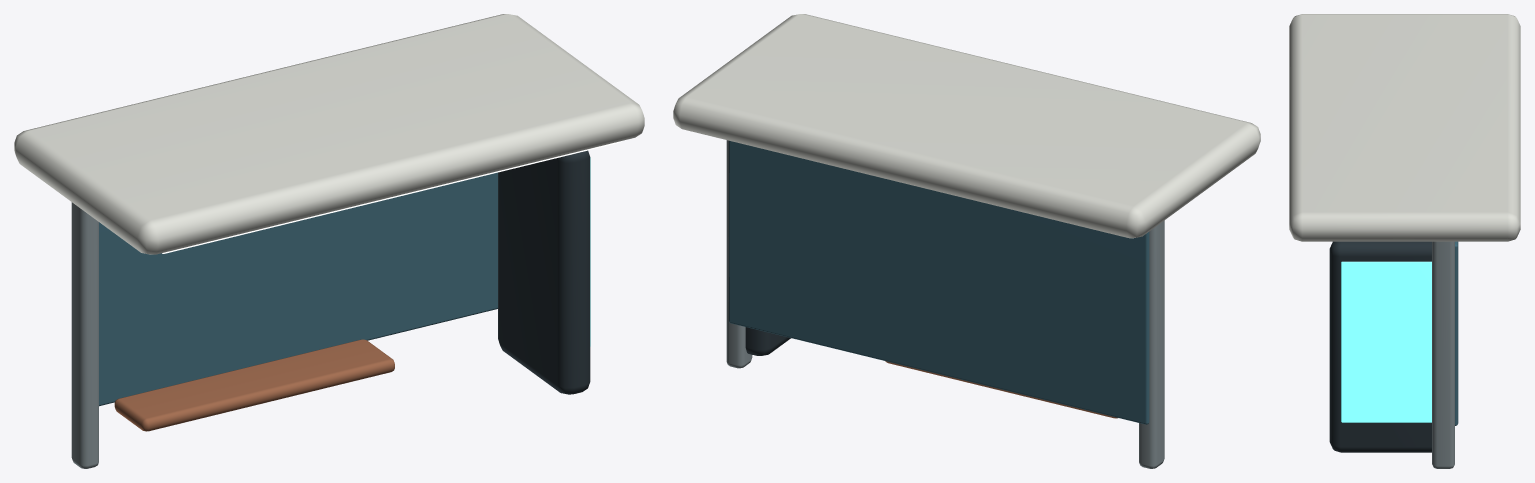
File: shelter.glb
The picture shows the model from 3 angles, left to right: view 1: azimuth 30°, elevation 25°; view 2: azimuth 150°, elevation 25°; view 3: azimuth 270°, elevation 25°; orthographic projection. The views are drawn at different scales.
Parts seen in each view (by area): view 1: NC ceramic ivory.010, NC sapphire glazing.010, NC graphite.010, NC oxidized copper.005, NC brushed titanium.012, NC headlamp.001; view 2: NC sapphire glazing.010, NC ceramic ivory.010, NC brushed titanium.012, NC graphite.010; view 3: NC ceramic ivory.010, NC cyan.007, NC graphite.010, NC brushed titanium.012, NC sapphire glazing.010.
Boxes of the visible parts, left/top/right/bottom form: NC ceramic ivory.010: left=14, top=14, right=644, bottom=254; NC sapphire glazing.010: left=99, top=172, right=497, bottom=406; NC graphite.010: left=498, top=150, right=590, bottom=394; NC oxidized copper.005: left=114, top=339, right=394, bottom=431; NC brushed titanium.012: left=71, top=202, right=98, bottom=468; NC headlamp.001: left=162, top=141, right=620, bottom=253; NC sapphire glazing.010: left=729, top=140, right=1149, bottom=424; NC ceramic ivory.010: left=673, top=14, right=1260, bottom=238; NC brushed titanium.012: left=726, top=140, right=1164, bottom=468; NC graphite.010: left=745, top=327, right=790, bottom=355; NC ceramic ivory.010: left=1289, top=14, right=1520, bottom=241; NC cyan.007: left=1341, top=261, right=1431, bottom=422; NC graphite.010: left=1329, top=241, right=1431, bottom=452; NC brushed titanium.012: left=1432, top=241, right=1454, bottom=468; NC sapphire glazing.010: left=1455, top=241, right=1458, bottom=425.
Bounding box in the file's own units: 6.4 × 3.76 × 3.
